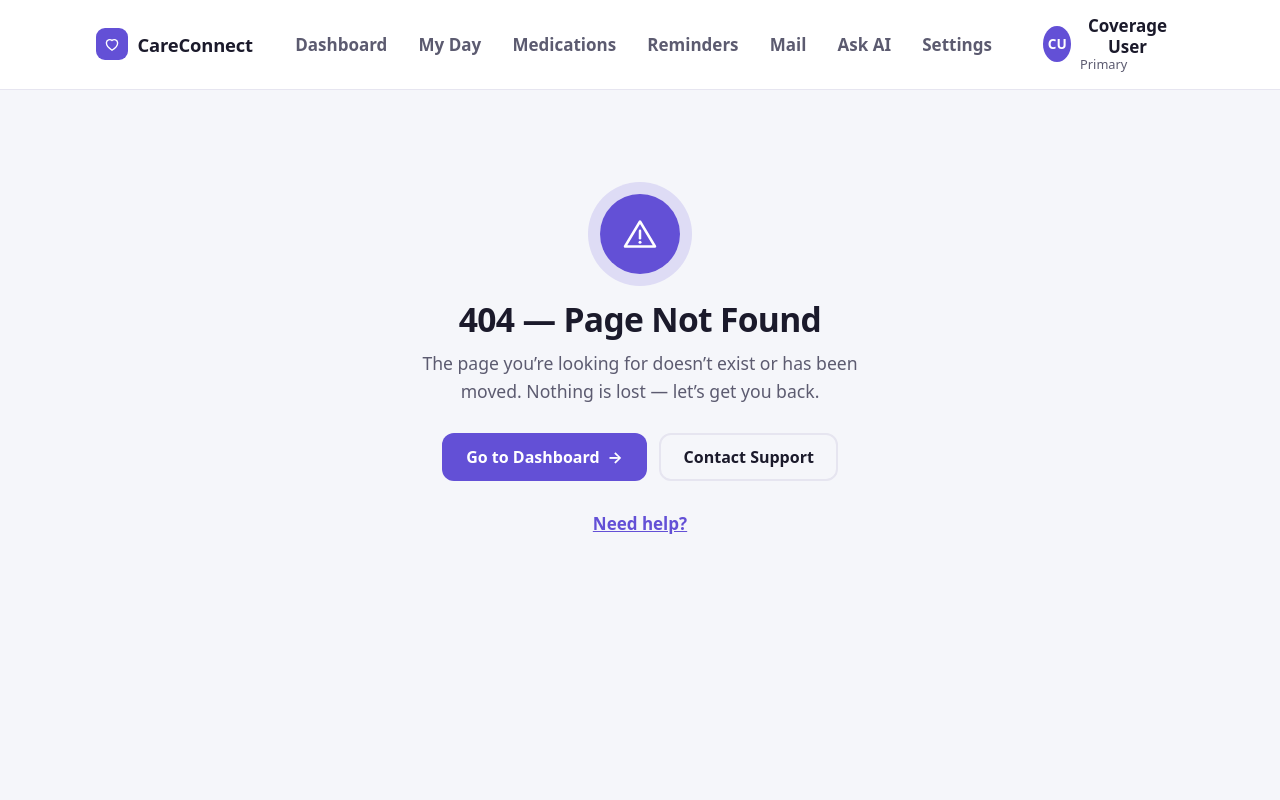
it: coverage gaps — ErrorPage and PWA chrome › covers support dialog success path
Expected: the heading "404 — Page Not Found" is shown, x1=459 y1=296 x2=821 y2=342
Click the button "Need help?": (640, 523) x1=583 y1=501 x2=697 y2=545
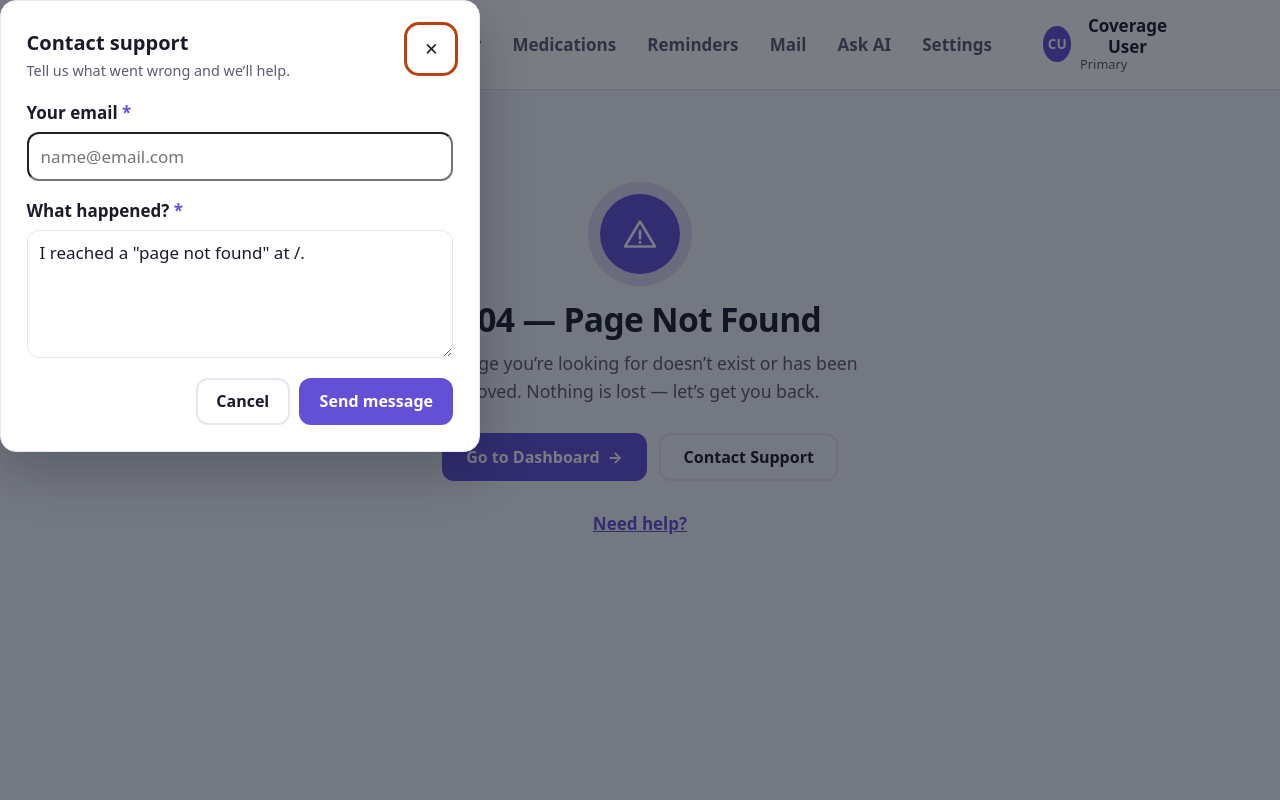
In the field labelled "Your email *": (240, 156) x1=27 y1=132 x2=453 y2=181, type "help@example.com"
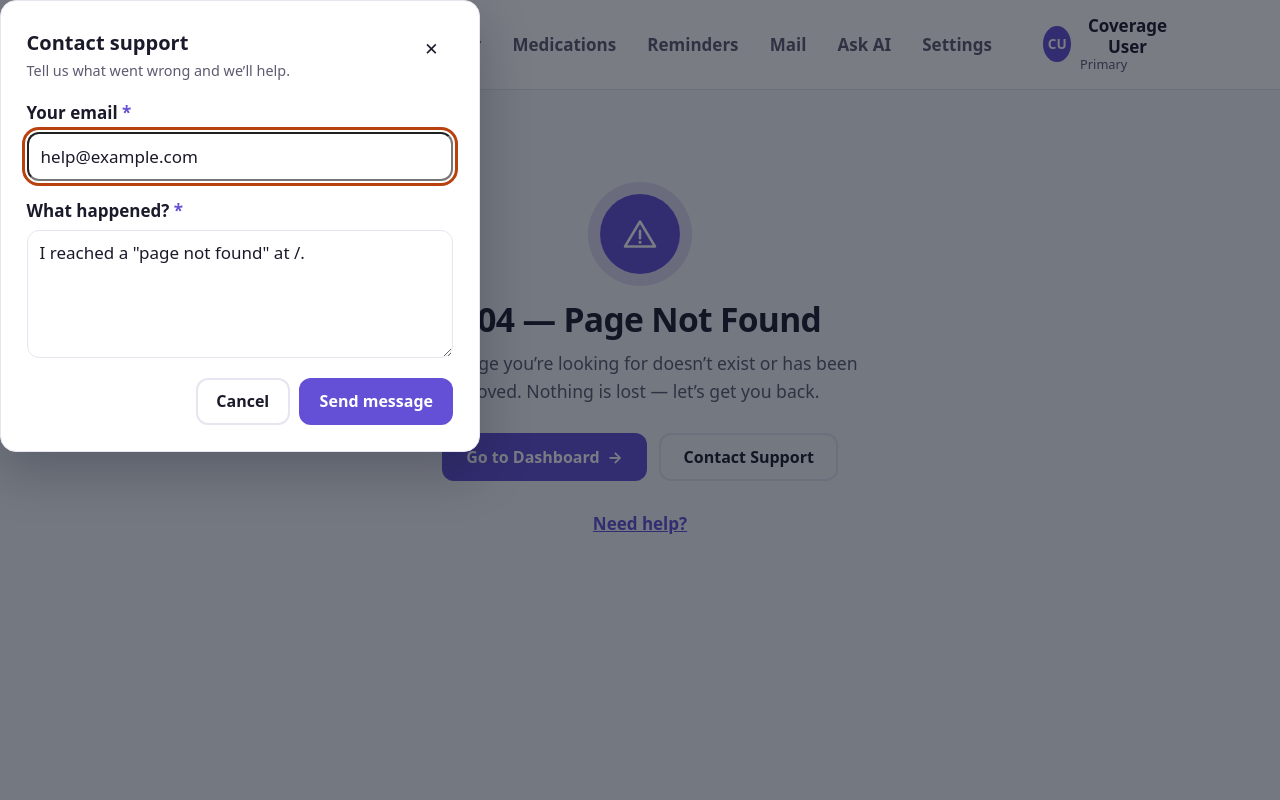
Click the button "Send message": (376, 402) x1=299 y1=378 x2=453 y2=425
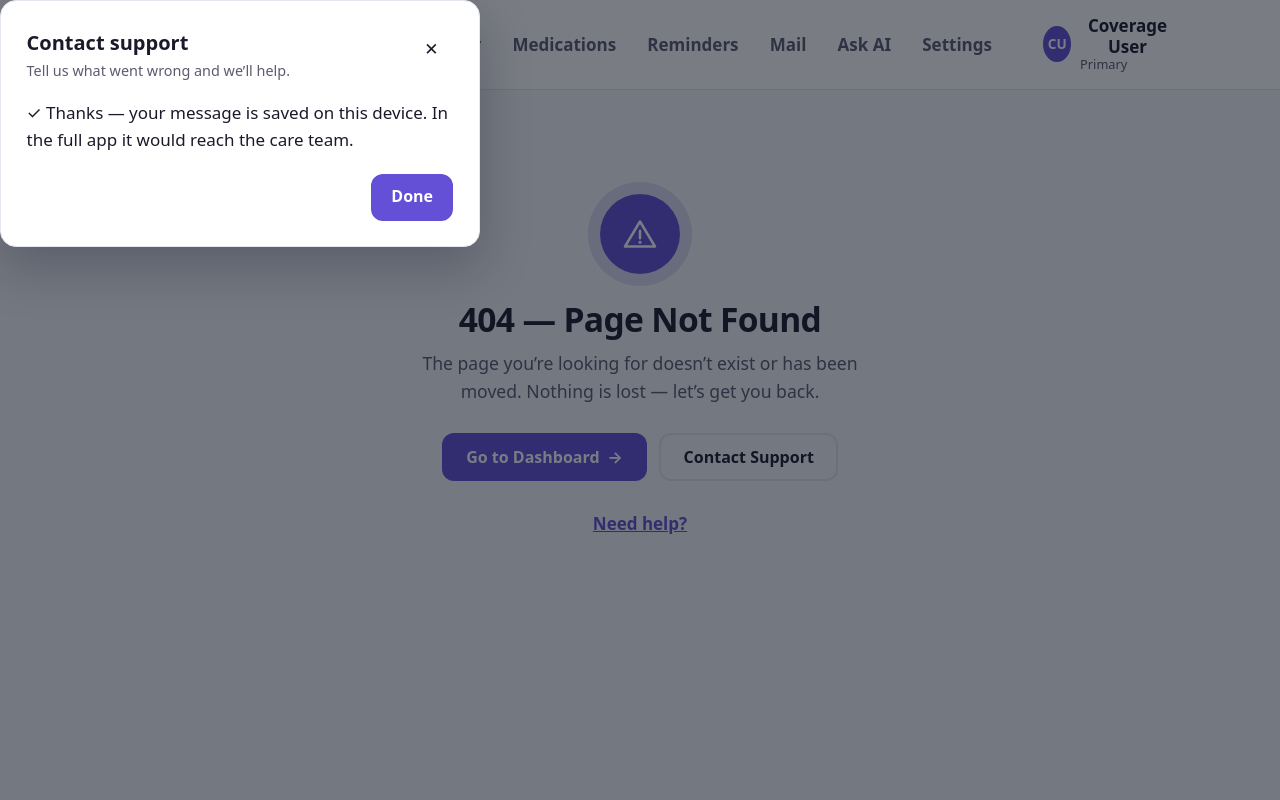
Expected: the text "Thanks — your message is saved" is shown, x1=27 y1=101 x2=448 y2=151
Click the button "Done": (412, 197) x1=371 y1=174 x2=453 y2=221
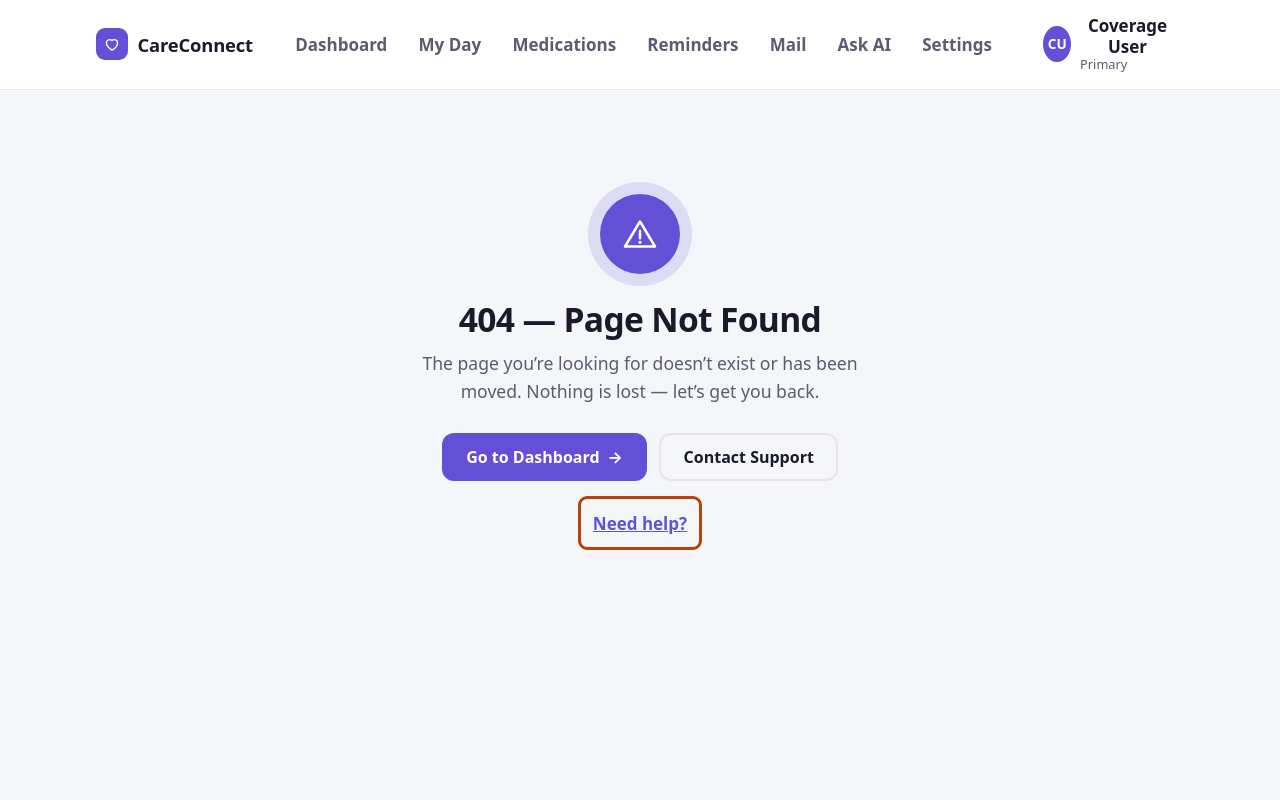
Expected: the dialog is gone
